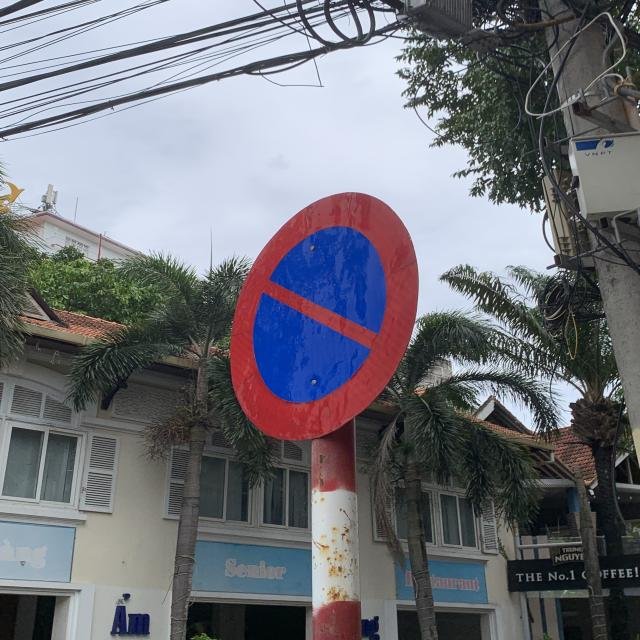Cam_Dau_Xe: (228, 190, 421, 441)
